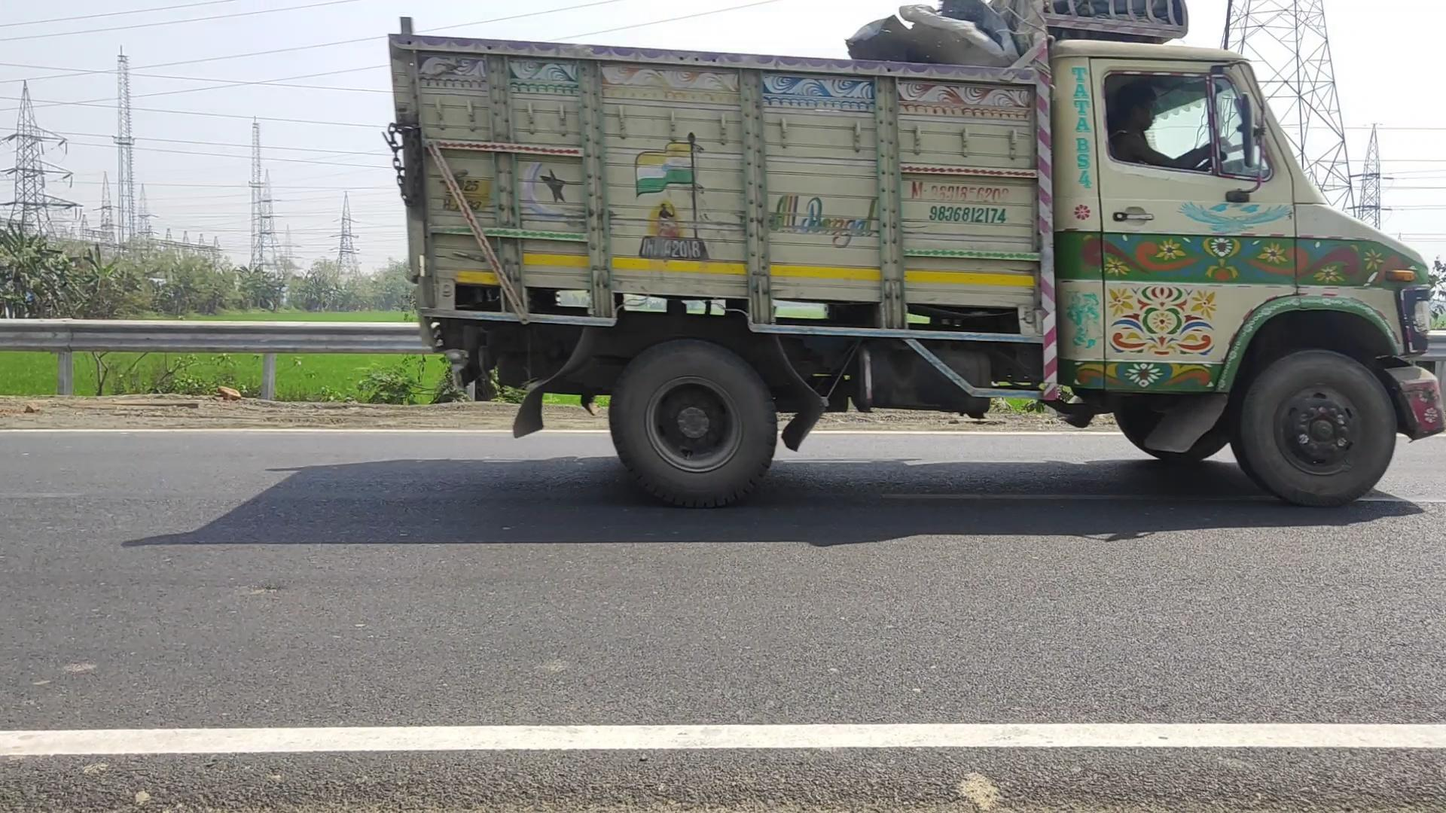truck: (385, 2, 1446, 507)
